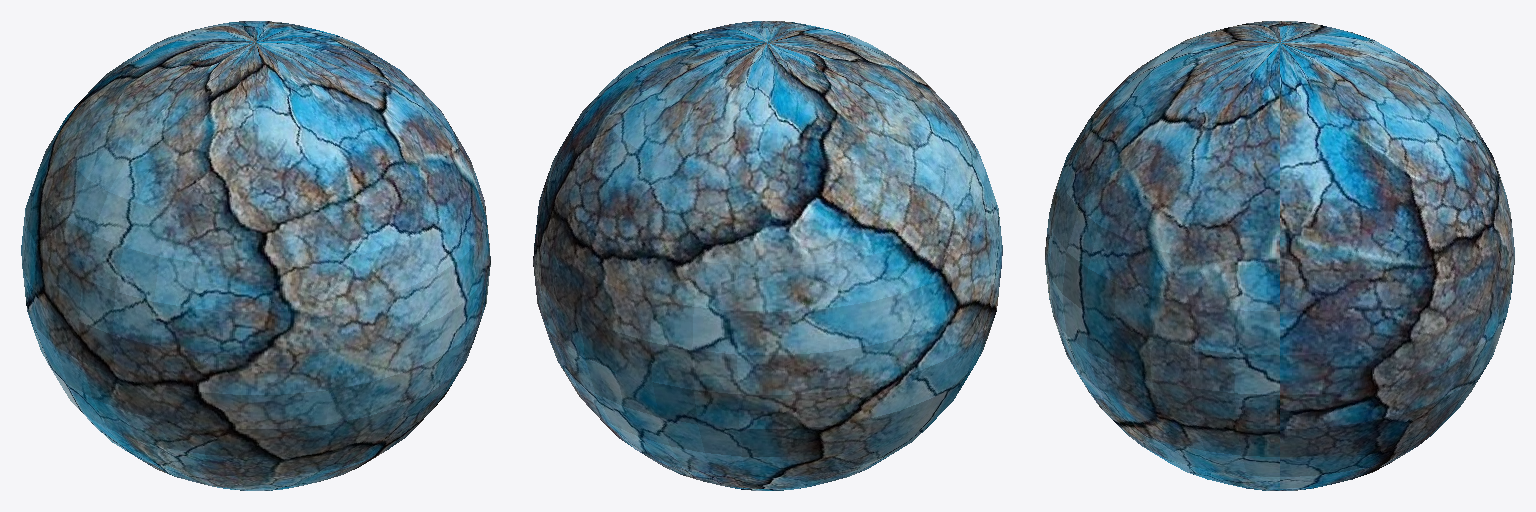
The picture shows the model from 3 angles: view 1: azimuth 30°, elevation 25°; view 2: azimuth 150°, elevation 25°; view 3: azimuth 270°, elevation 25°; orthographic projection.
Visible parts, largest first — view 1: Сфера; view 2: Сфера; view 3: Сфера.
Part boxes in pixels (x1,y1,x2,y2): Сфера: (21,21,490,490); Сфера: (533,21,1002,490); Сфера: (1045,21,1514,490).
Size of the model in its own units: 4.46 by 4.46 by 4.46.
Materials: 1 (1 with a texture image).